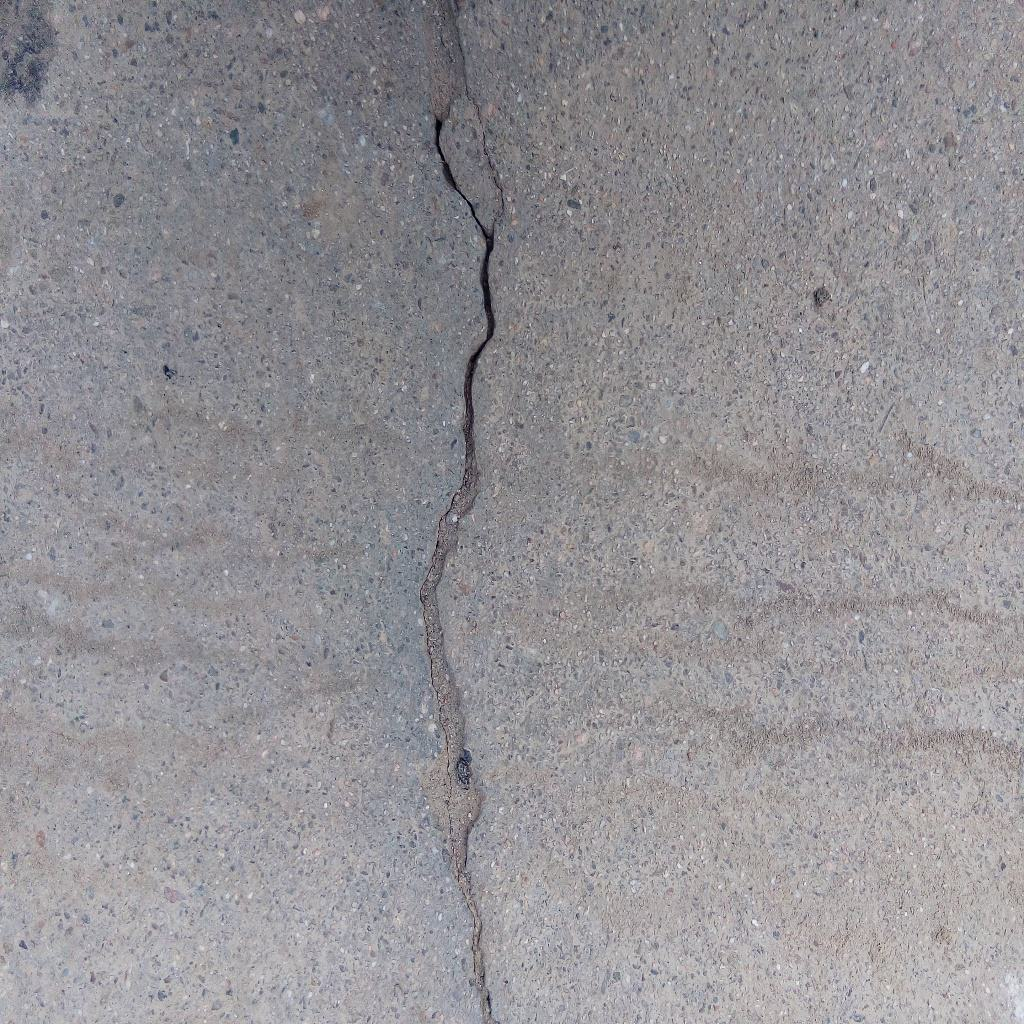Crack: (418, 1, 507, 1024)
